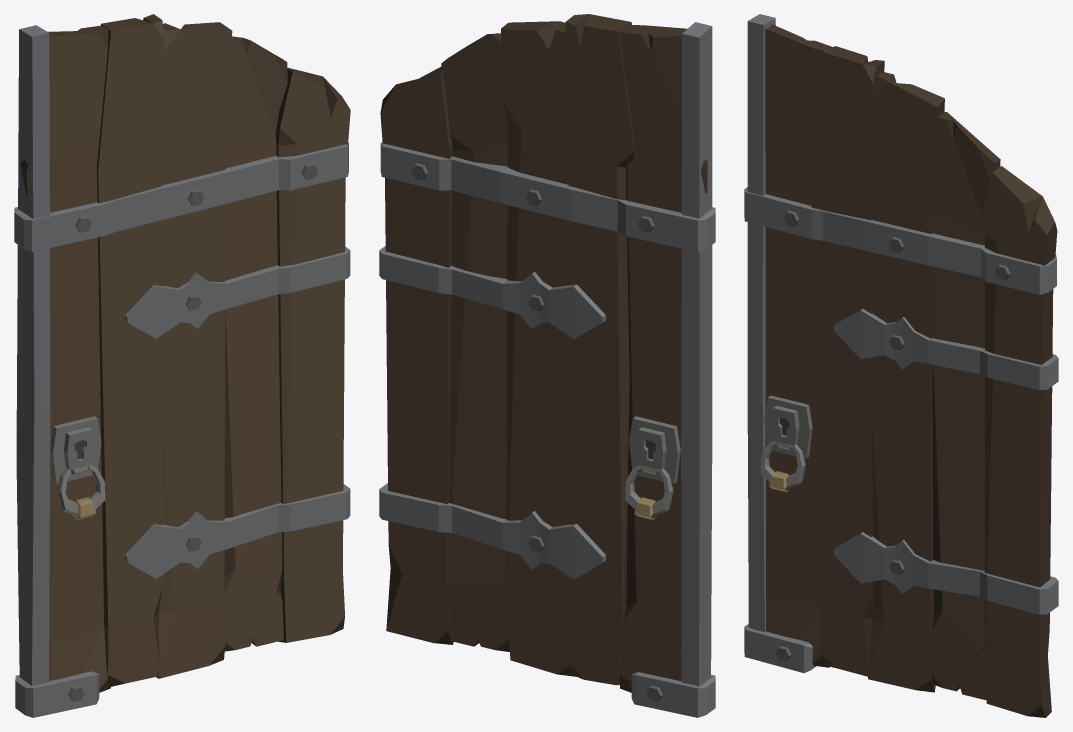
The model's file is SM_Env_DoorDouble_Round_02.FBX.
3 renders of one model, left to right at view 1: azimuth 30°, elevation 25°; view 2: azimuth 150°, elevation 25°; view 3: azimuth 330°, elevation 25°, orthographic. The views are drawn at different scales.
Visible parts, largest first — view 1: SM_Env_DoorDouble_Round_02; view 2: SM_Env_DoorDouble_Round_02; view 3: SM_Env_DoorDouble_Round_02.
Boxes of the visible parts, <box> form: SM_Env_DoorDouble_Round_02: <box>14,14,350,717</box>; SM_Env_DoorDouble_Round_02: <box>379,14,715,717</box>; SM_Env_DoorDouble_Round_02: <box>744,14,1058,717</box>.
Size of what is drawn, in the model's own units: 135 by 28.29 by 271.
